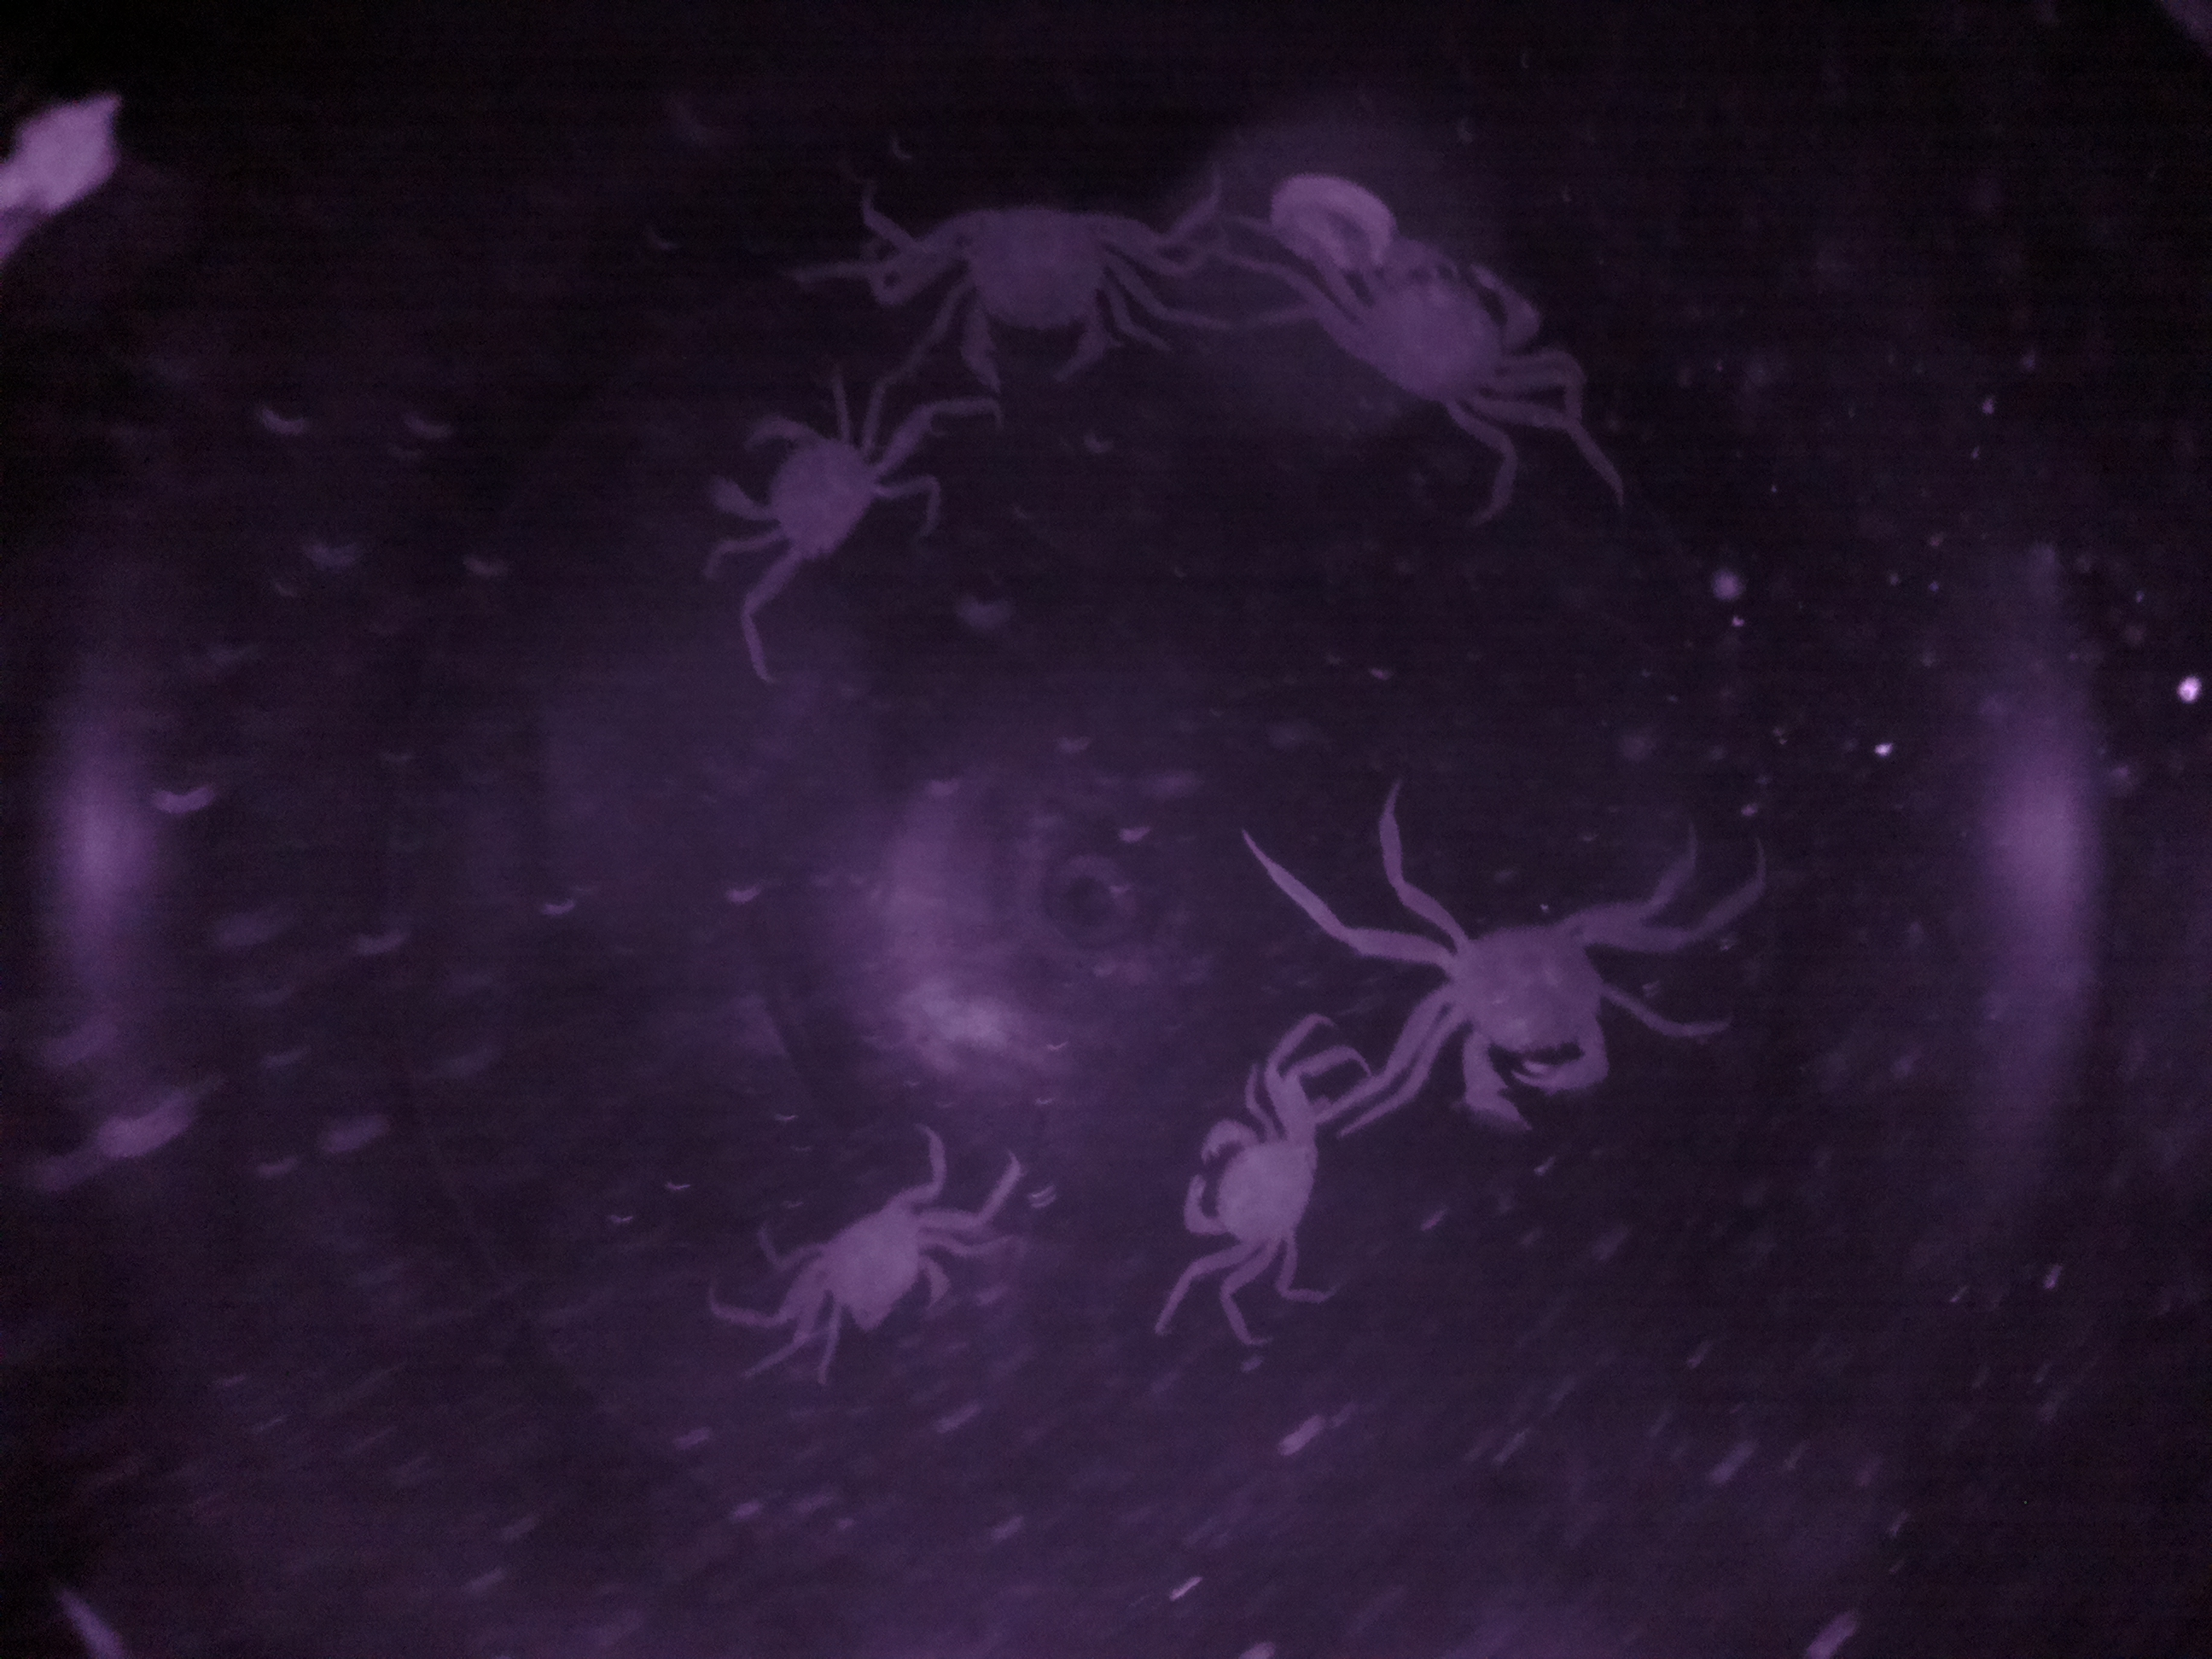Crab: (1359, 882, 1689, 1138), (1263, 214, 1595, 464), (914, 176, 1209, 423), (671, 387, 930, 613), (752, 1159, 998, 1364), (1162, 1040, 1357, 1291)
